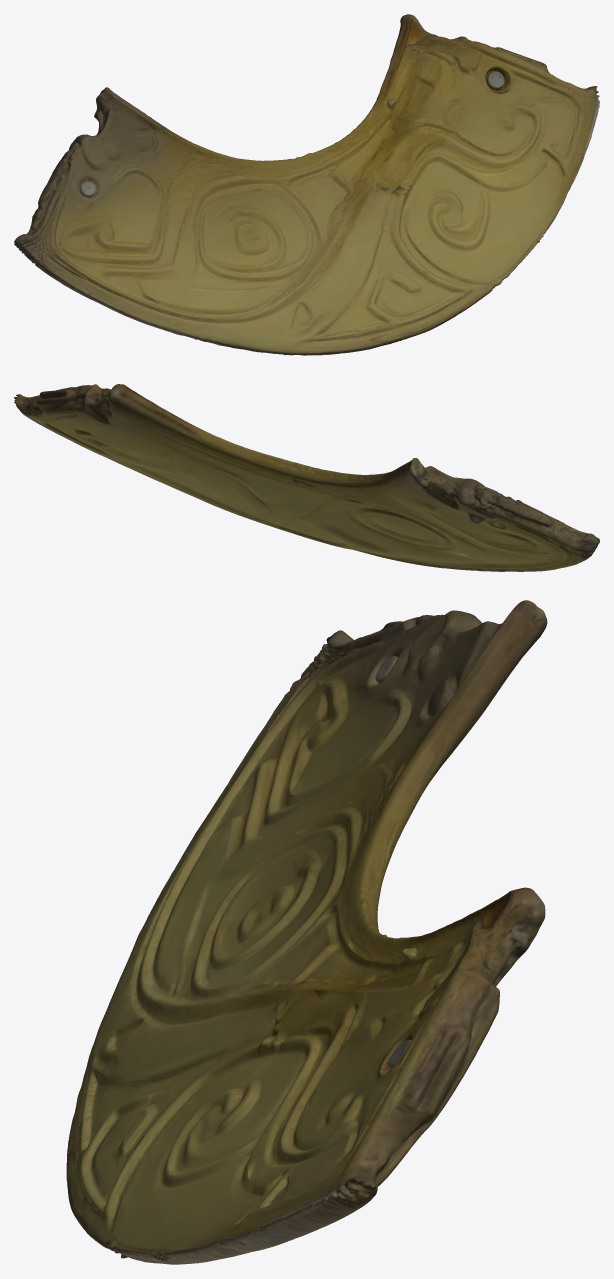
File: phoenix-huang-detail.glb
3 views of the same model, one above another, from view 1: azimuth 30°, elevation 25°; view 2: azimuth 150°, elevation 25°; view 3: azimuth 270°, elevation 25° (orthographic). The views are drawn at different scales.
Visible parts, largest first — view 1: node_0; view 2: node_0; view 3: node_0.
Boxes of the visible parts, bbox=[...] form: node_0: bbox=[14, 14, 599, 355]; node_0: bbox=[14, 384, 599, 571]; node_0: bbox=[66, 600, 547, 1264].
Bounding box in the file's own units: 1.19 × 0.417 × 0.428.
Materials: 1 (1 with a texture image).
